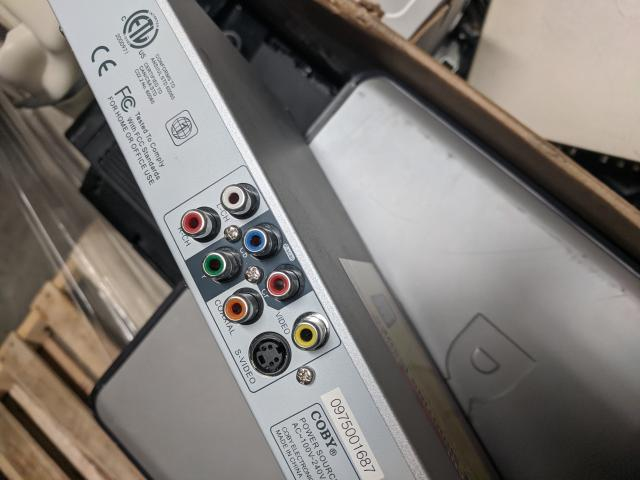CRS: (245, 264, 261, 286), (224, 224, 240, 244), (297, 365, 313, 384)
